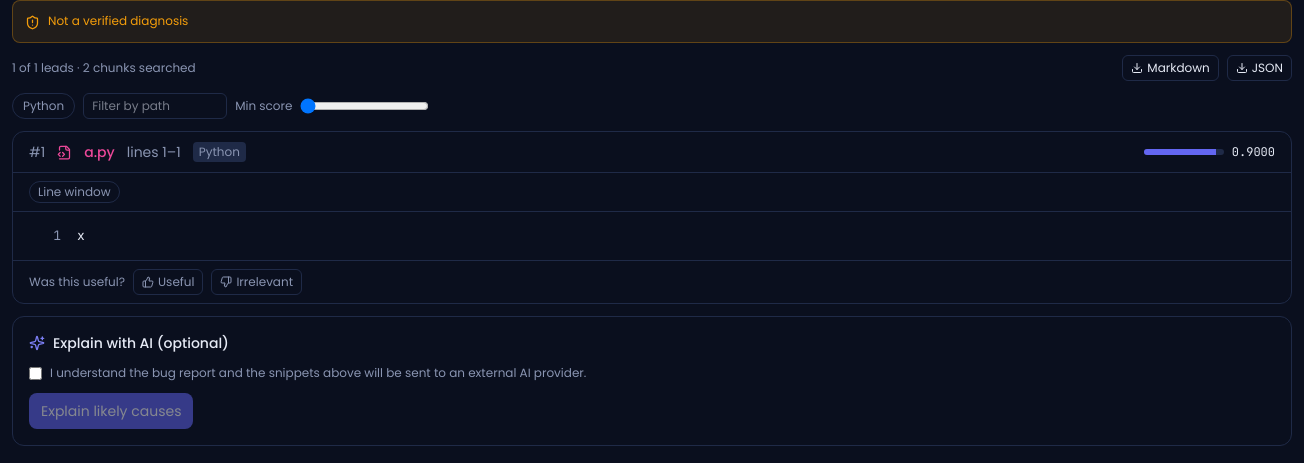
Scenario: TurnResults › requires consent before AI explanation
expect the button "Explain likely causes" is disabled: met, box x1=29 y1=393 x2=194 y2=429
Click the checkbox at point(36, 374), box x1=29 y1=367 x2=42 y2=380
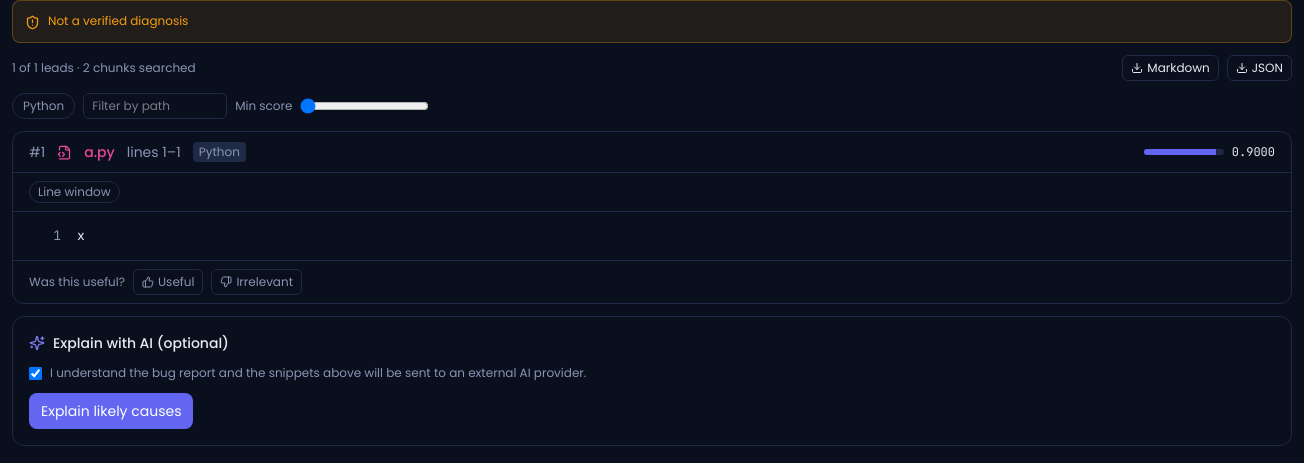
expect the button "Explain likely causes" is enabled: met, box x1=29 y1=393 x2=194 y2=429
